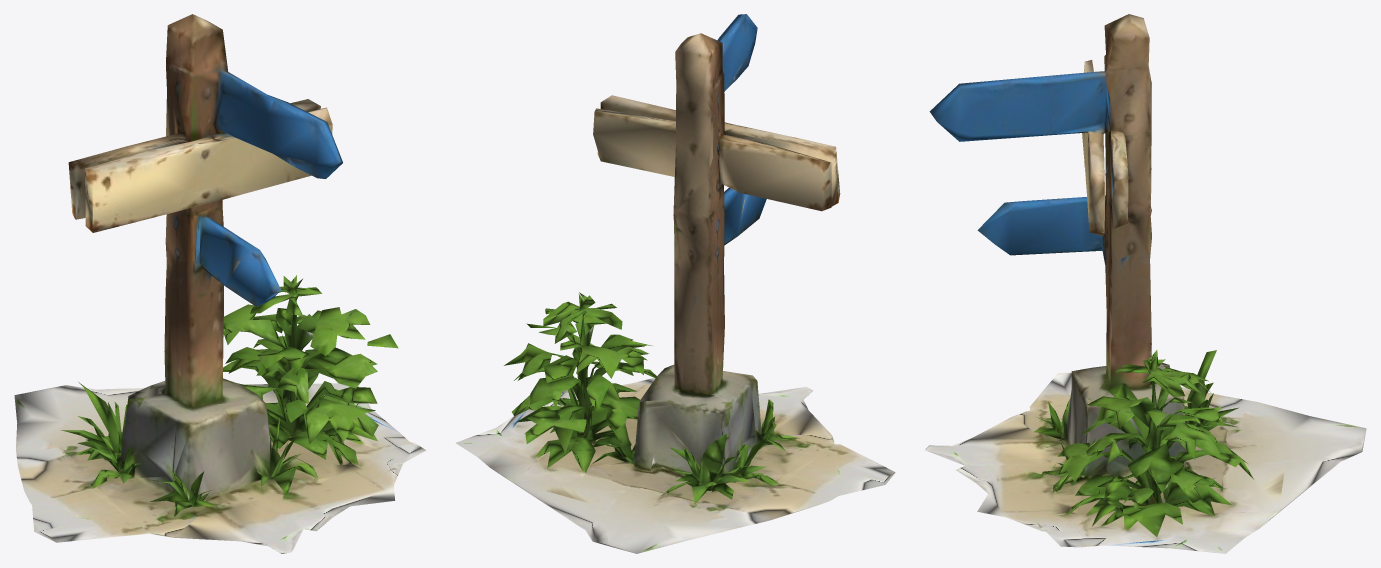
File: env_signpost.glb
3 views of the same model, side by side, from view 1: azimuth 30°, elevation 25°; view 2: azimuth 150°, elevation 25°; view 3: azimuth 270°, elevation 25° (orthographic). The views are drawn at different scales.
Visible parts, largest first — view 1: tripo_node_465dd64e-cbf5-45b8-ac6e-3d81061b5ee0; view 2: tripo_node_465dd64e-cbf5-45b8-ac6e-3d81061b5ee0; view 3: tripo_node_465dd64e-cbf5-45b8-ac6e-3d81061b5ee0.
Part boxes in pixels (x1=…): tripo_node_465dd64e-cbf5-45b8-ac6e-3d81061b5ee0: x1=14, y1=14, x2=426, y2=553; tripo_node_465dd64e-cbf5-45b8-ac6e-3d81061b5ee0: x1=456, y1=14, x2=895, y2=553; tripo_node_465dd64e-cbf5-45b8-ac6e-3d81061b5ee0: x1=925, y1=14, x2=1366, y2=553.
Size of the model in its own units: 0.871 by 0.9735 by 0.8828.
1 material, 1 textured.
